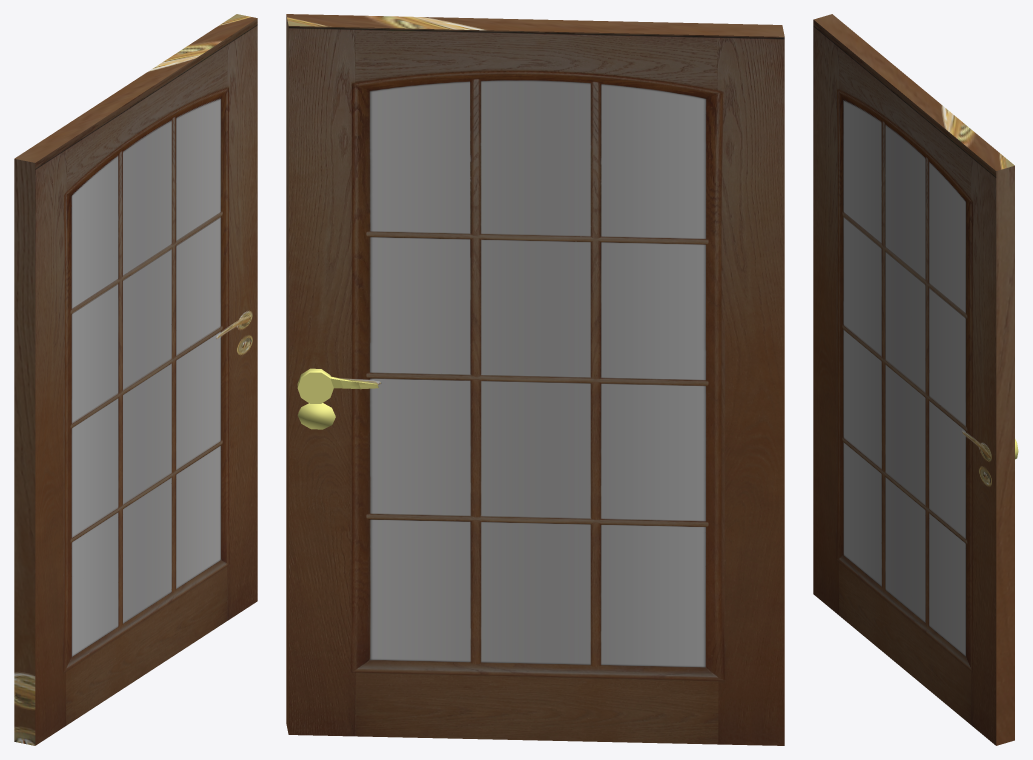
Rendered from Door.obj.
3 views of the same model, side by side, from view 1: azimuth 30°, elevation 25°; view 2: azimuth 150°, elevation 25°; view 3: azimuth 270°, elevation 25° (orthographic). The views are drawn at different scales.
Parts seen in each view (by area): view 1: Плоскость.026_Плоскость.064; view 2: Плоскость.026_Плоскость.064; view 3: Плоскость.026_Плоскость.064.
Boxes of the visible parts, bbox=[...] form: Плоскость.026_Плоскость.064: bbox=[14, 14, 257, 745]; Плоскость.026_Плоскость.064: bbox=[286, 14, 784, 745]; Плоскость.026_Плоскость.064: bbox=[813, 14, 1018, 745].
Size of the model in its own units: 2.41 by 4.11 by 1.33.
Materials: 2 (2 with a texture image).
